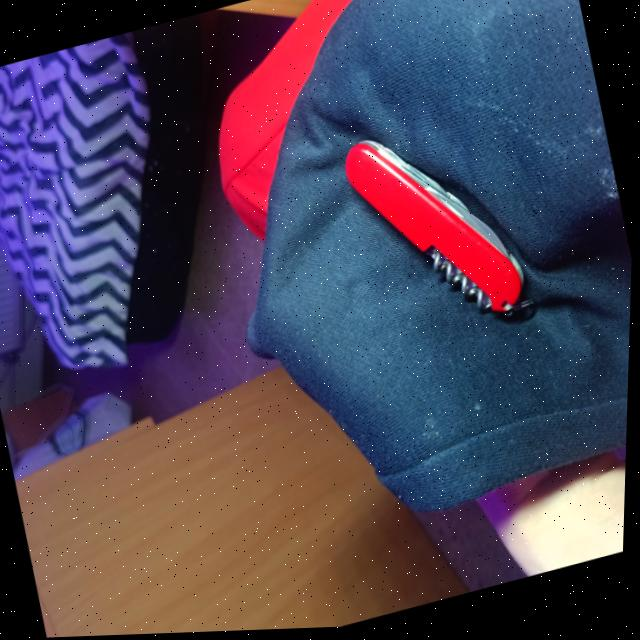knife victorinox: (346, 142, 525, 315)
